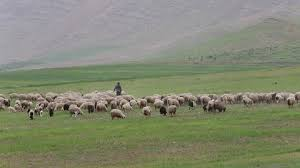sheep: (110, 108, 127, 120), (67, 106, 84, 117), (213, 99, 227, 112), (94, 102, 109, 113), (186, 98, 198, 110), (242, 95, 254, 106), (285, 94, 296, 106), (166, 105, 177, 116), (273, 91, 283, 103), (152, 98, 165, 107), (141, 105, 151, 116), (158, 105, 167, 116), (26, 108, 35, 119), (54, 102, 65, 111), (86, 103, 95, 114), (121, 101, 131, 110), (137, 98, 147, 107), (47, 106, 55, 117)
